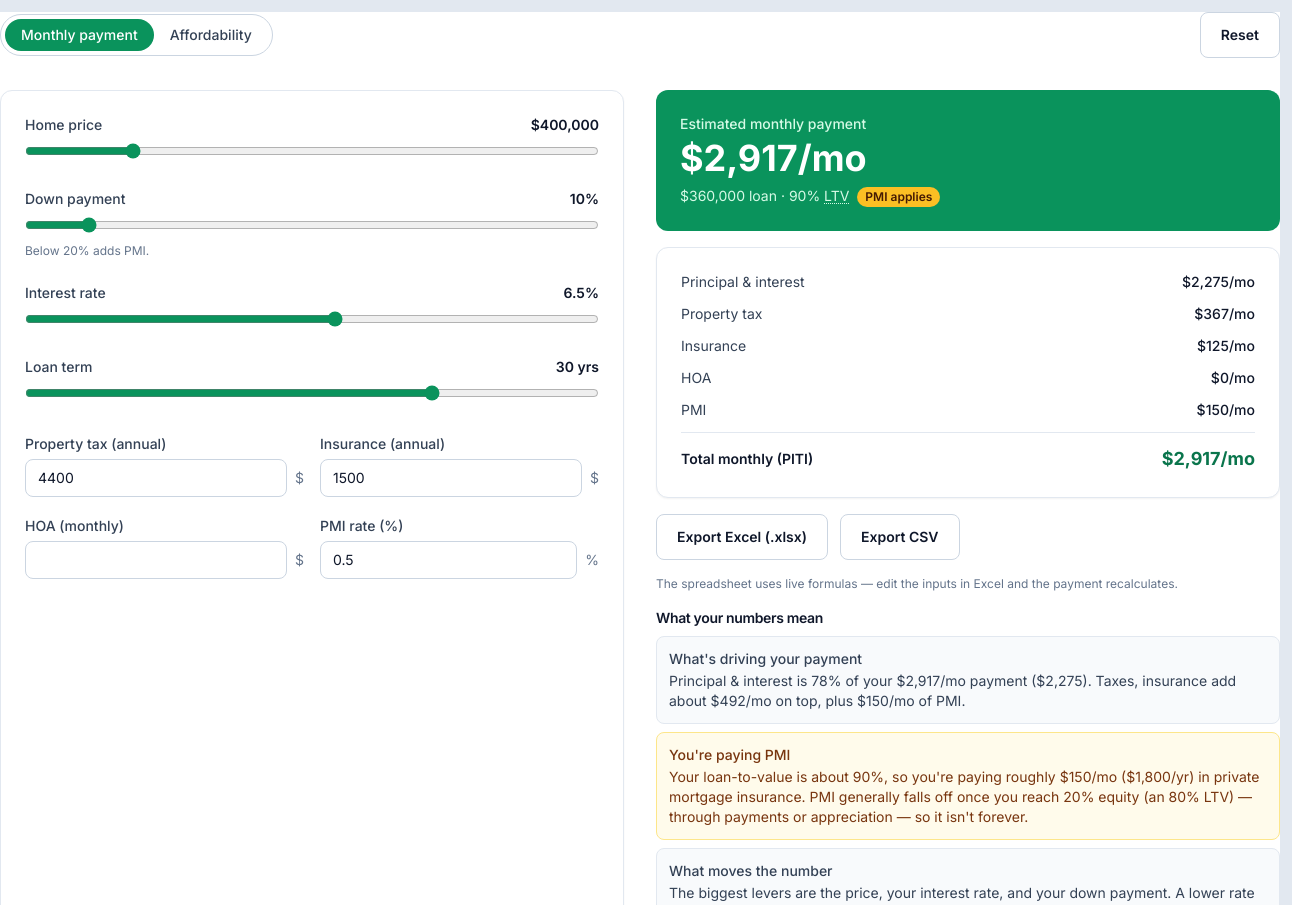
it: BudgetCalculator › shows the PMI badge when the down payment is below 20%
This screenshot has width=1292, height=905.
Expected: the text "PMI applies" is shown, x1=857 y1=187 x2=940 y2=207
Note: Push the down payment to 20%+ → PMI drops off, badge disappears.
Set the slider labelled "Down payment" to "25" at (172, 225), box x1=25 y1=217 x2=599 y2=233
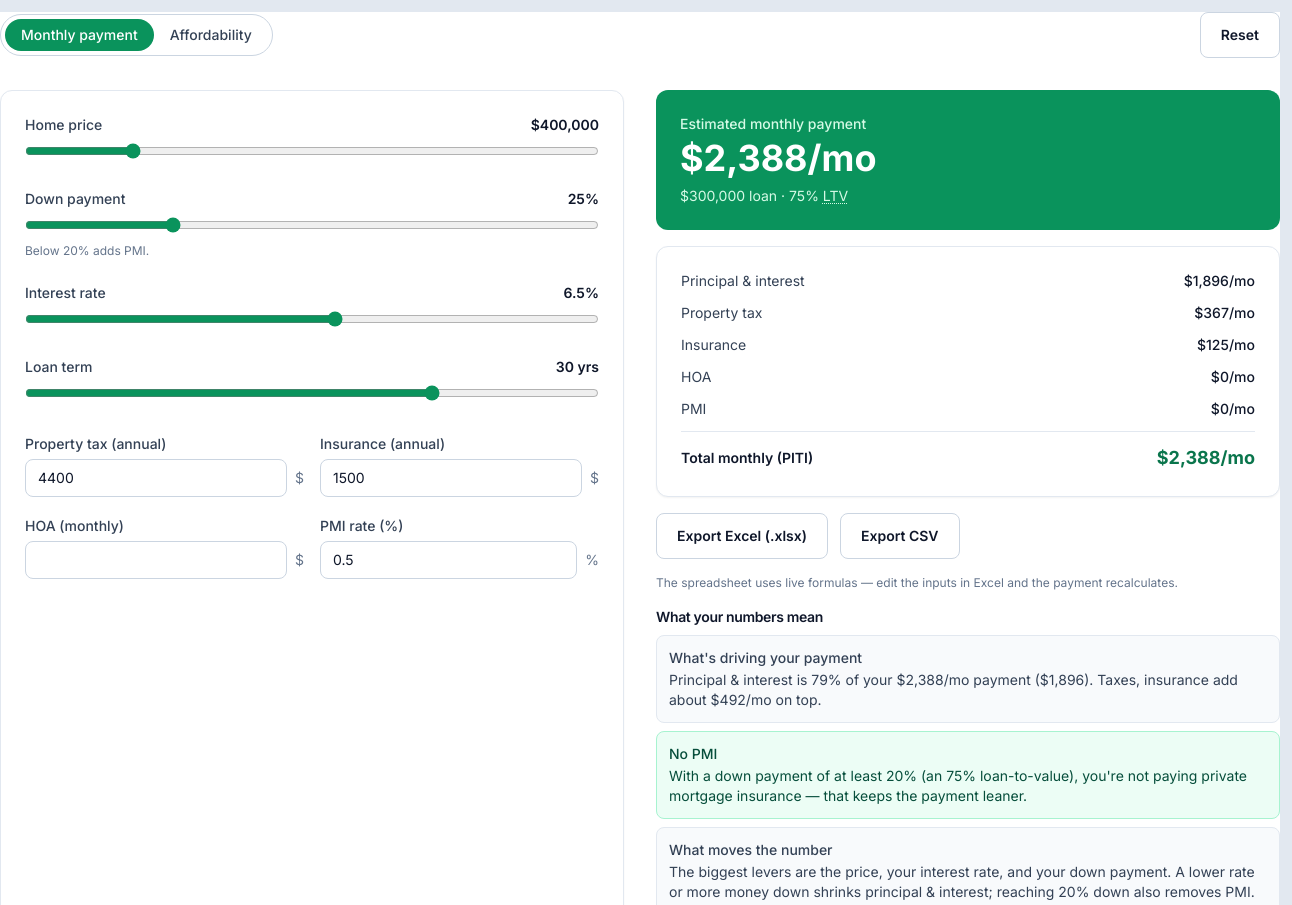
Now the text with test id "pmi-badge" is gone
